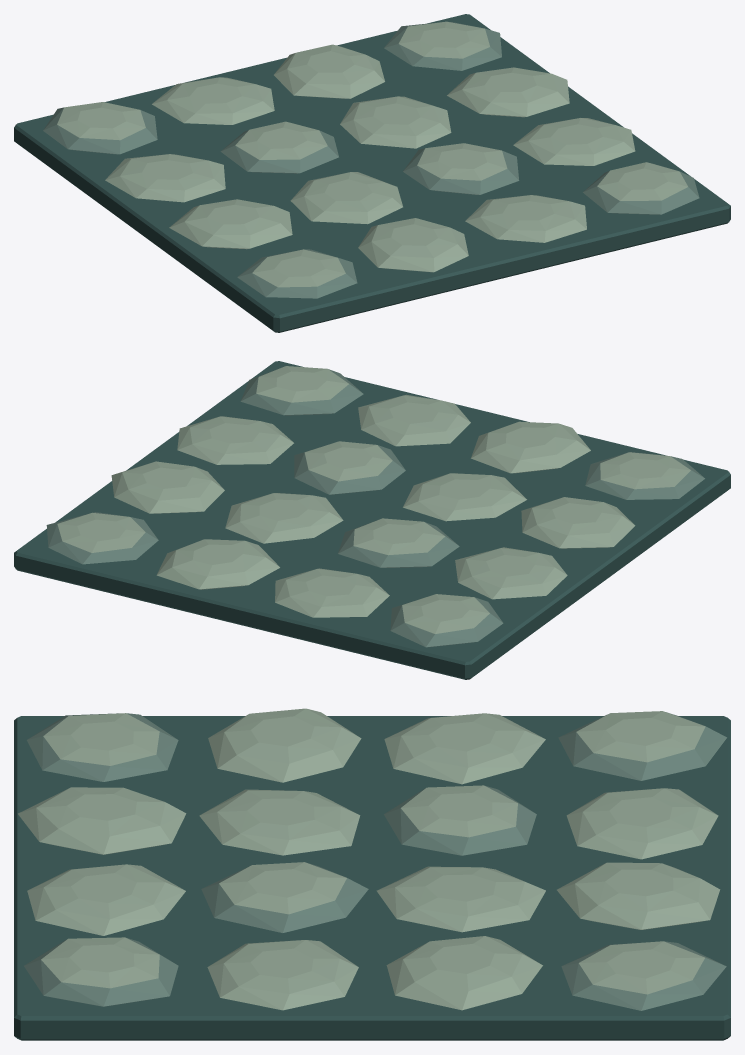
The model's file is floor-rubble.glb.
3 renders of one model, top to bottom at view 1: azimuth 30°, elevation 25°; view 2: azimuth 150°, elevation 25°; view 3: azimuth 270°, elevation 25°, orthographic. The views are drawn at different scales.
Parts seen in each view (by area): view 1: floor-rubble__body; view 2: floor-rubble__body; view 3: floor-rubble__body.
Boxes of the visible parts, x1,y1,x2,y2 form: floor-rubble__body: [14, 14, 730, 332]; floor-rubble__body: [14, 361, 730, 679]; floor-rubble__body: [14, 708, 730, 1040].
Bounding box in the file's own units: 2 × 0.14 × 2.
